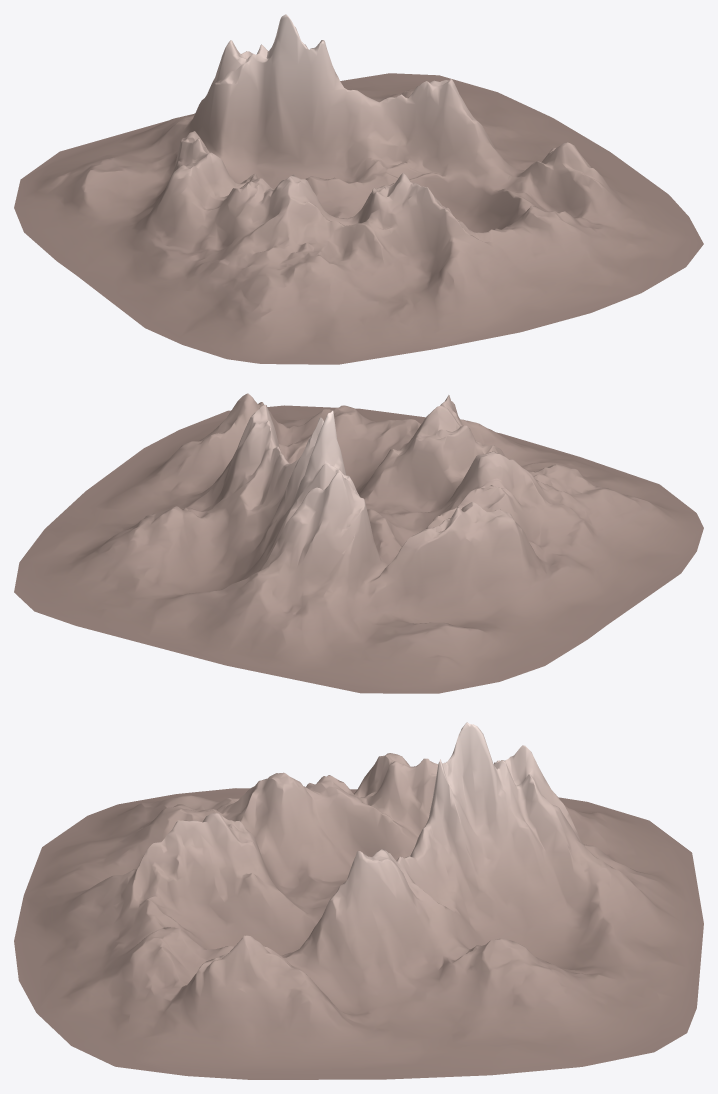
File: Mountain_05.glb
3 renders of one model, top to bottom at view 1: azimuth 30°, elevation 25°; view 2: azimuth 150°, elevation 25°; view 3: azimuth 270°, elevation 25°, orthographic. The views are drawn at different scales.
Visible parts, largest first — view 1: Mountain_05; view 2: Mountain_05; view 3: Mountain_05.
Part boxes in pixels (box(x1,y1,x2,y2)): Mountain_05: box(14, 14, 703, 364); Mountain_05: box(14, 393, 703, 693); Mountain_05: box(14, 722, 703, 1079).
Size of the model in its own units: 87.56 by 28.11 by 87.51.
1 material, 1 textured.
